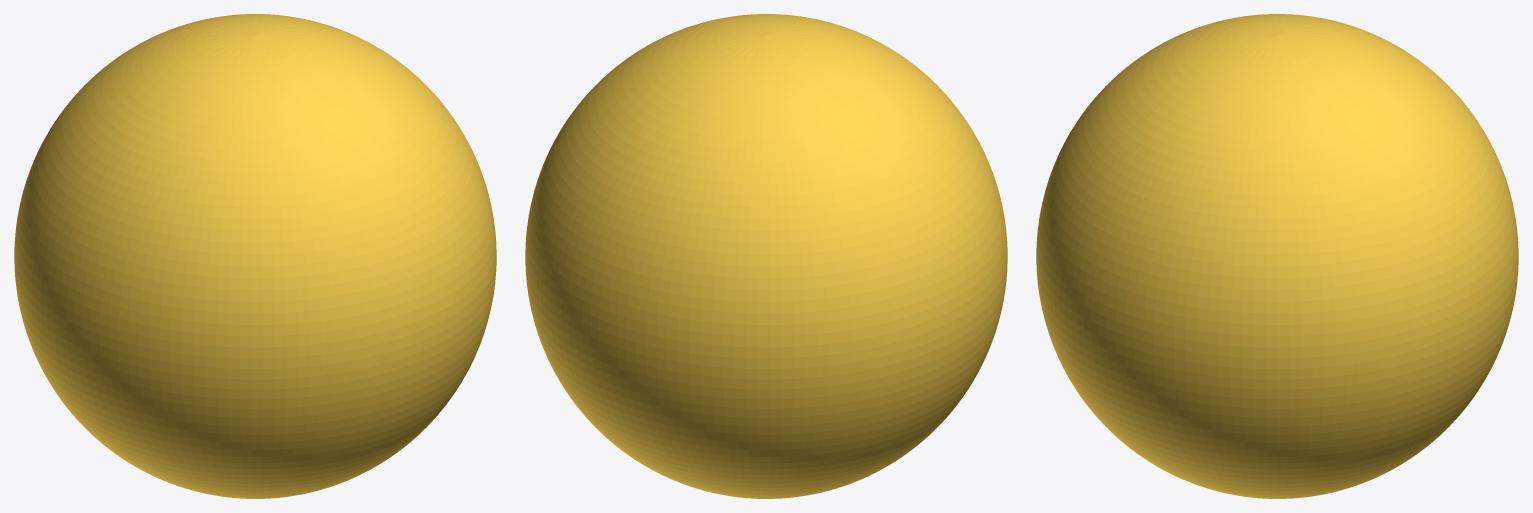
File: tounge.fbx
3 views of the same model, side by side, from view 1: azimuth 30°, elevation 25°; view 2: azimuth 150°, elevation 25°; view 3: azimuth 270°, elevation 25° (orthographic).
Visible parts, largest first — view 1: 球体; view 2: 球体; view 3: 球体.
Part boxes in pixels (left/top/right/bottom): 球体: left=14, top=14, right=496, bottom=498; 球体: left=525, top=14, right=1007, bottom=498; 球体: left=1036, top=14, right=1518, bottom=498.
Size of the model in its own units: 197 by 200 by 197.
